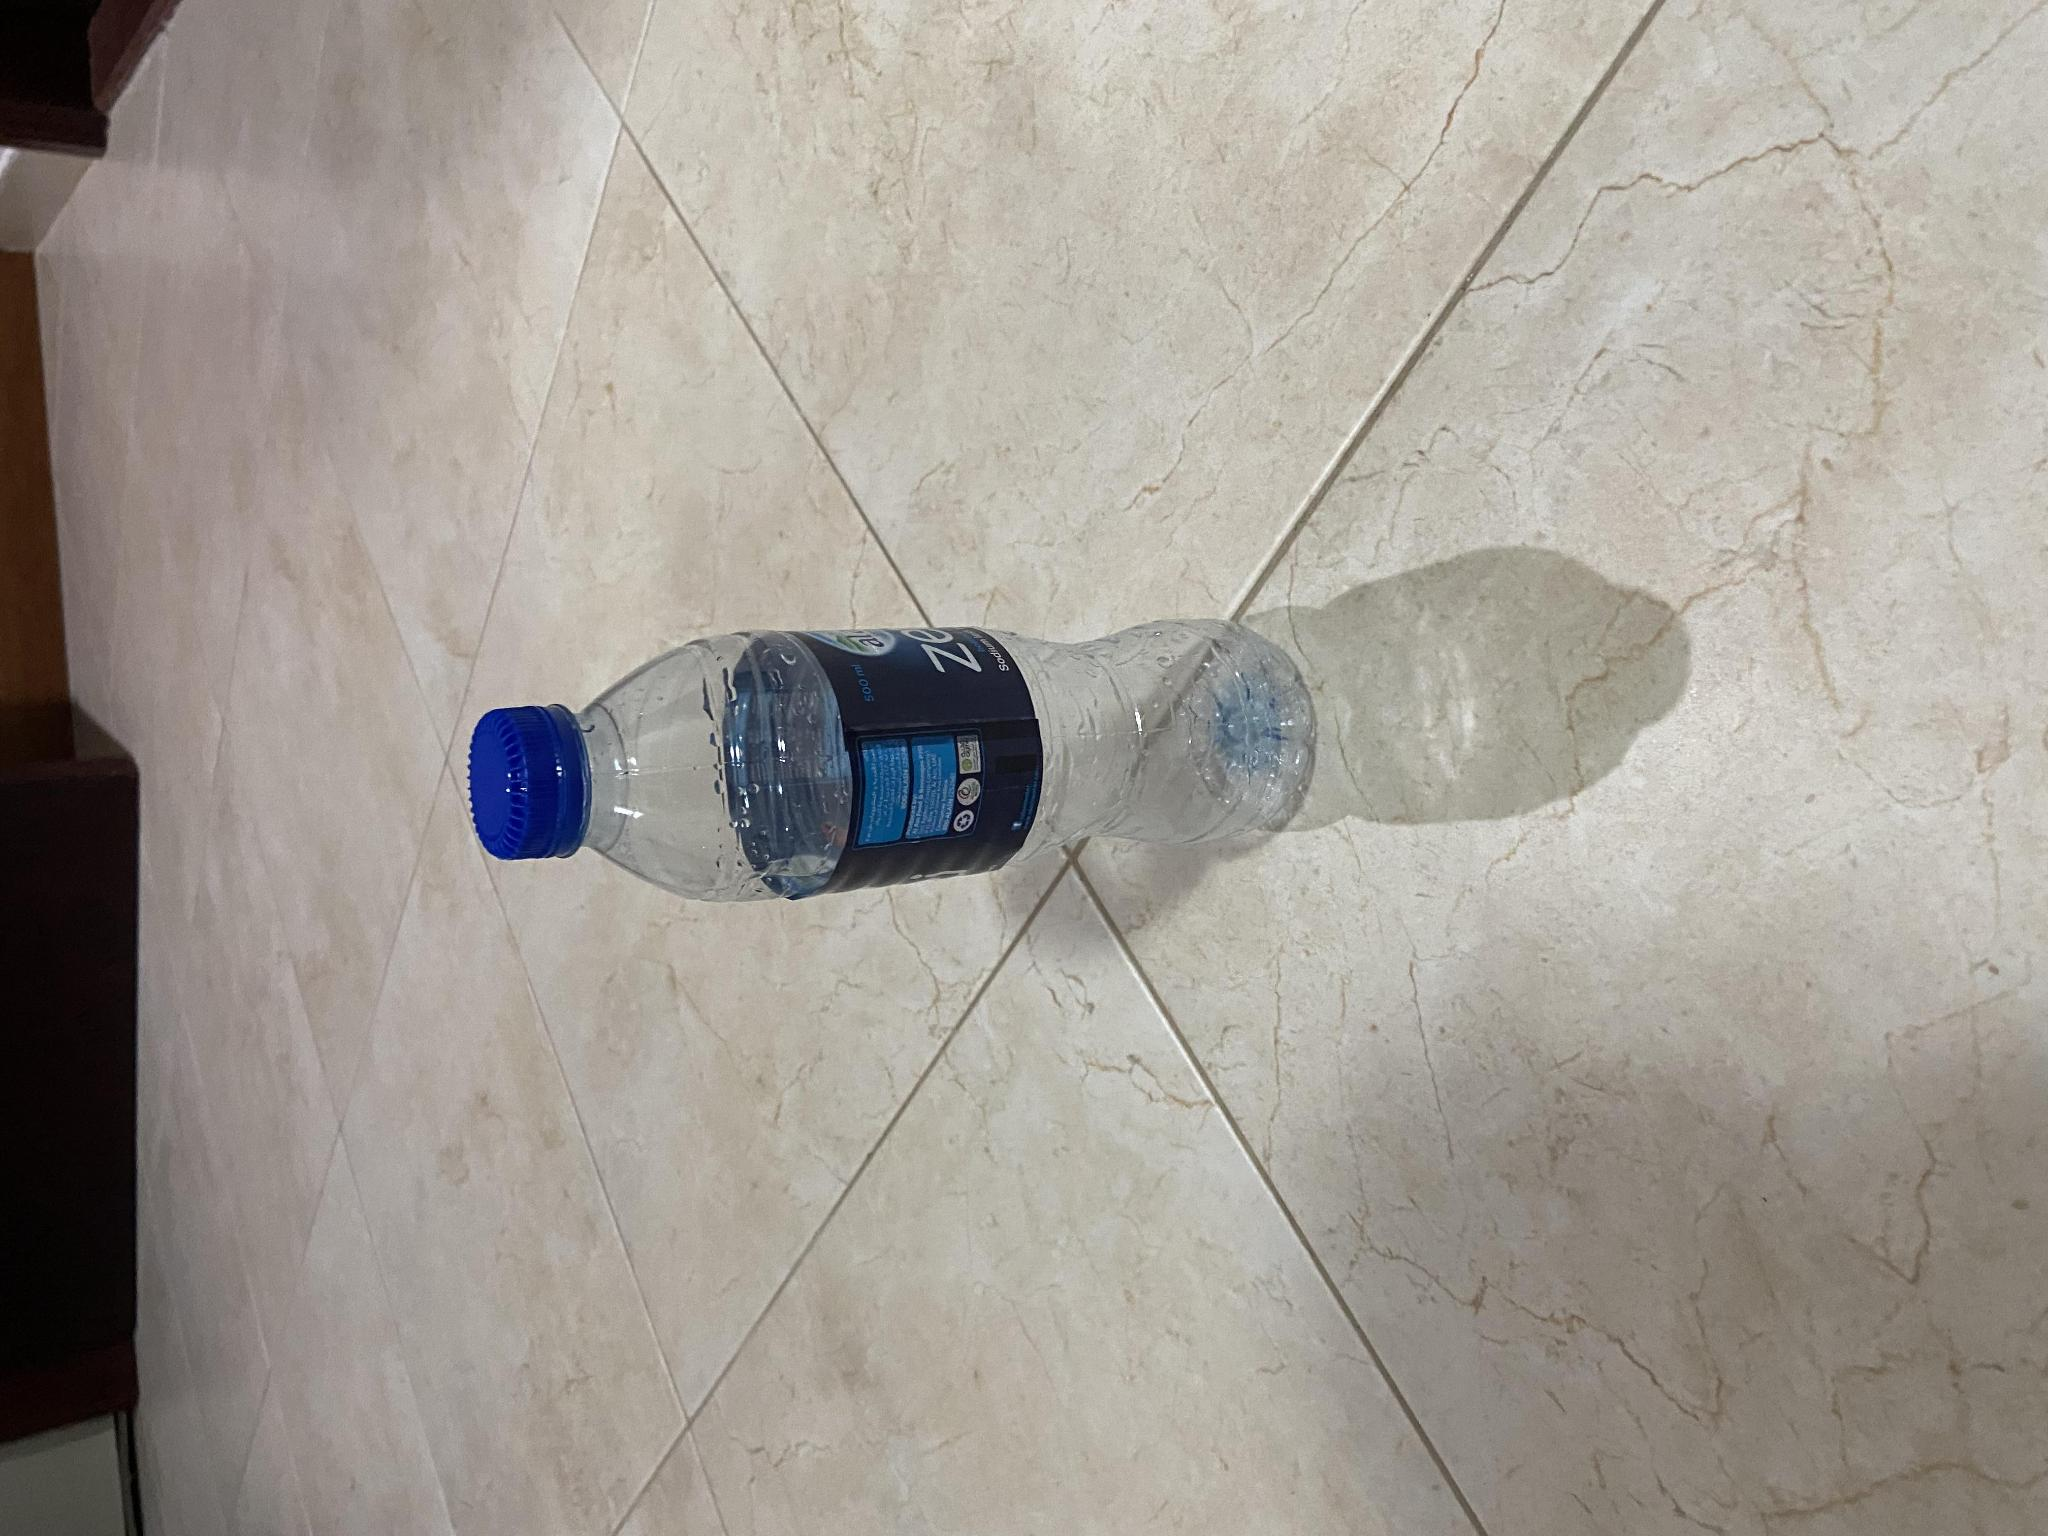bottle: (843, 340, 1249, 984)
